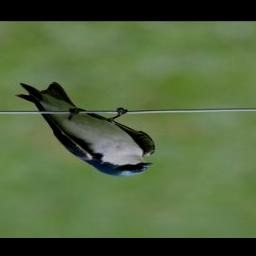Swallow: (14, 82, 156, 177)
